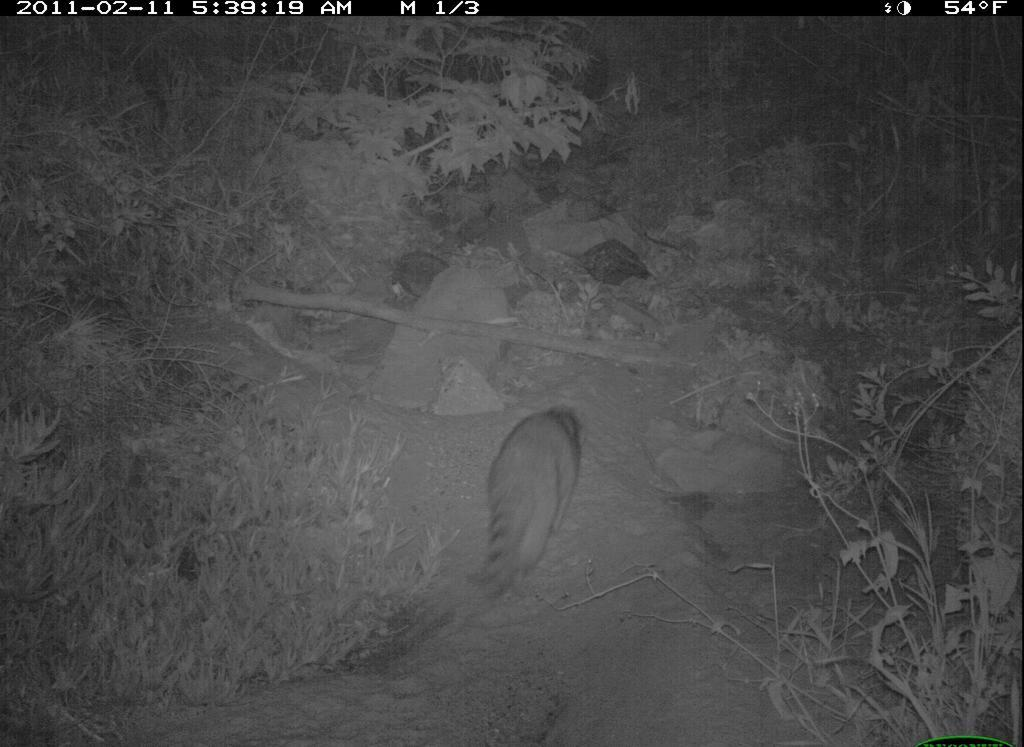raccoon: (479, 408, 593, 606)
